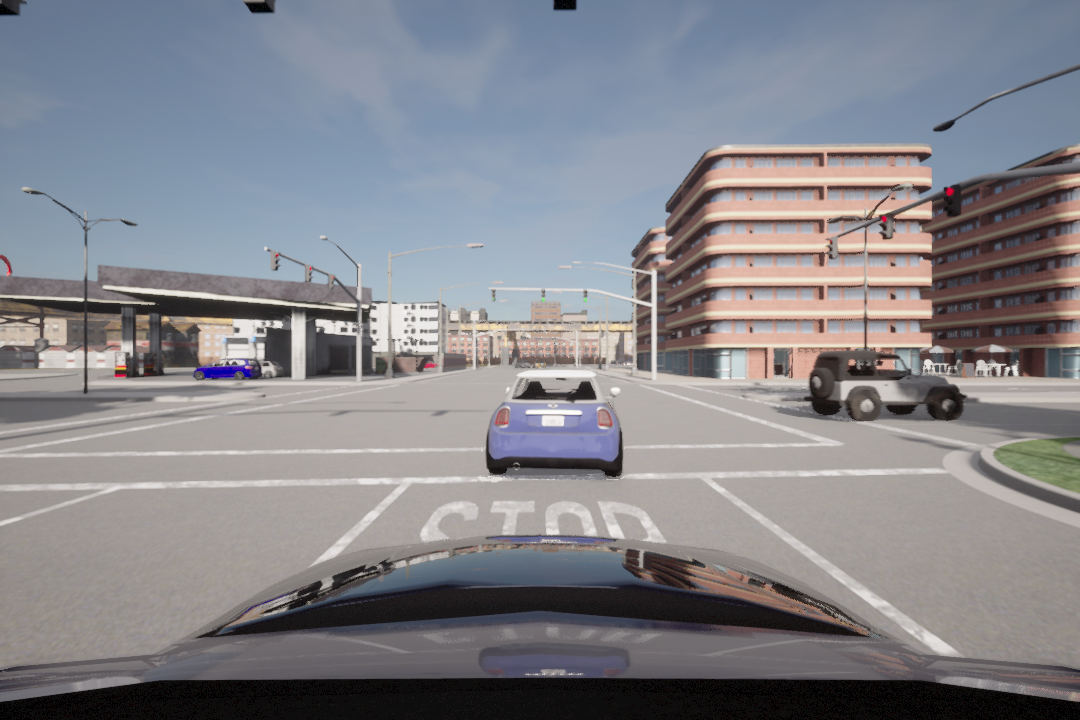TrafficLight: (943, 181, 962, 219), (879, 209, 894, 242), (825, 233, 841, 263), (269, 249, 281, 276), (303, 262, 314, 285), (326, 271, 336, 292), (580, 288, 590, 304), (490, 289, 500, 303), (540, 288, 548, 304)
